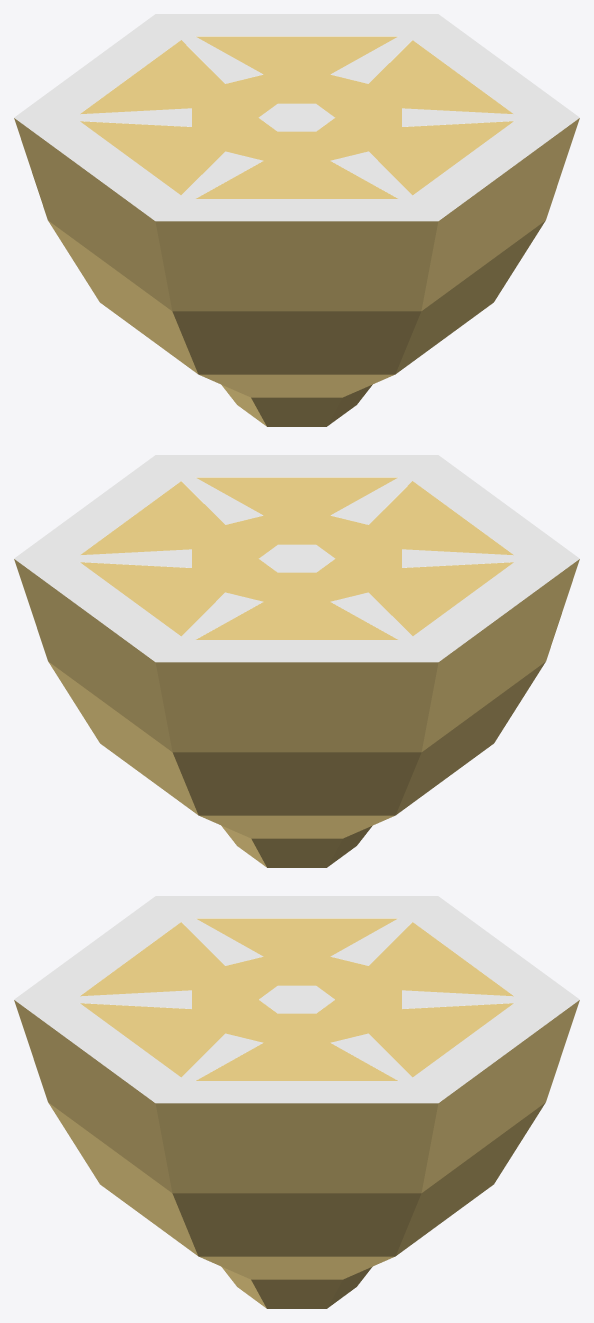
3 views of the same model, one above another, from view 1: azimuth 30°, elevation 25°; view 2: azimuth 150°, elevation 25°; view 3: azimuth 270°, elevation 25° (orthographic).
Parts seen in each view (by area): view 1: lemonHalf; view 2: lemonHalf; view 3: lemonHalf.
Boxes of the visible parts, x1,y1,x2,y2 form: lemonHalf: (14,14,579,426); lemonHalf: (14,455,579,867); lemonHalf: (14,896,579,1308).
Bounding box in the file's own units: 0.1732 × 0.112 × 0.2.
